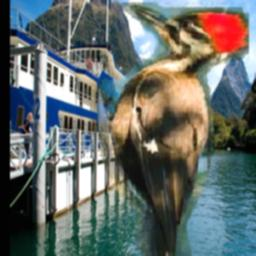Woodpecker: (93, 2, 249, 256)
